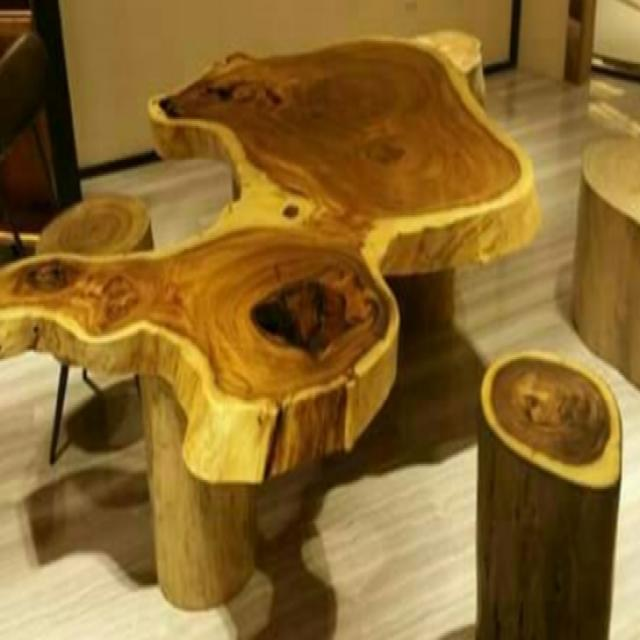table: (2, 31, 530, 582)
